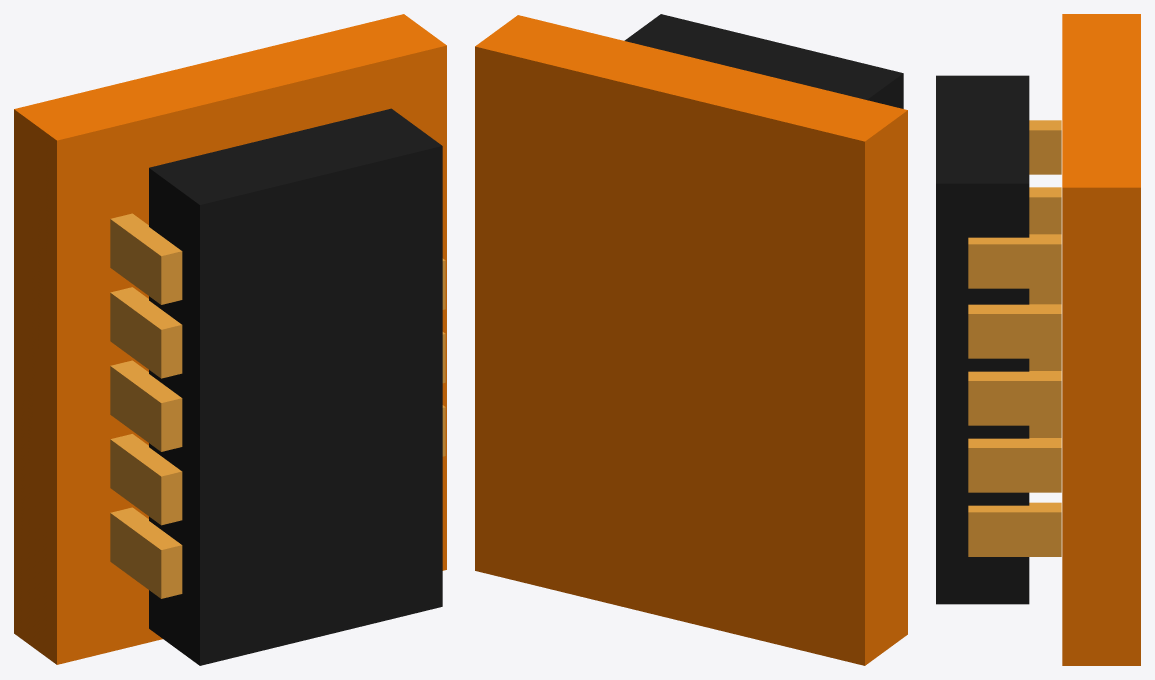
The model's file is chip.glb.
3 renders of one model, left to right at view 1: azimuth 30°, elevation 25°; view 2: azimuth 150°, elevation 25°; view 3: azimuth 270°, elevation 25°, orthographic. The views are drawn at different scales.
Visible parts, largest first — view 1: Cube, Cube.007, Cube.009, Cube.005, Cube.003, Cube.002, Cube.010; view 2: Cube.007, Cube; view 3: Cube.007, Cube, Cube.006, Cube.008, Cube.011, Cube.001, Cube.004, Cube.002, Cube.009, Cube.010, Cube.003, Cube.005.
Part boxes in pixels (x1,y1,x2,y2): Cube: (149,108,442,665); Cube.007: (14,14,446,664); Cube.009: (110,287,182,378); Cube.005: (110,434,182,525); Cube.003: (110,507,182,598); Cube.002: (110,213,182,304); Cube.010: (110,360,182,451); Cube.007: (475,15,907,665); Cube: (624,14,903,108); Cube.007: (1062,14,1140,665); Cube: (936,75,1029,604); Cube.006: (968,438,1061,492); Cube.008: (968,304,1061,358); Cube.011: (968,371,1061,425); Cube.001: (968,234,1061,288); Cube.004: (968,502,1061,556); Cube.002: (1029,120,1061,174); Cube.009: (1029,187,1061,234); Cube.010: (1029,288,1061,304); Cube.003: (1029,425,1061,437); Cube.005: (1029,358,1061,370).
Size of the model in its own units: 0.1363 by 0.1751 by 0.068.
